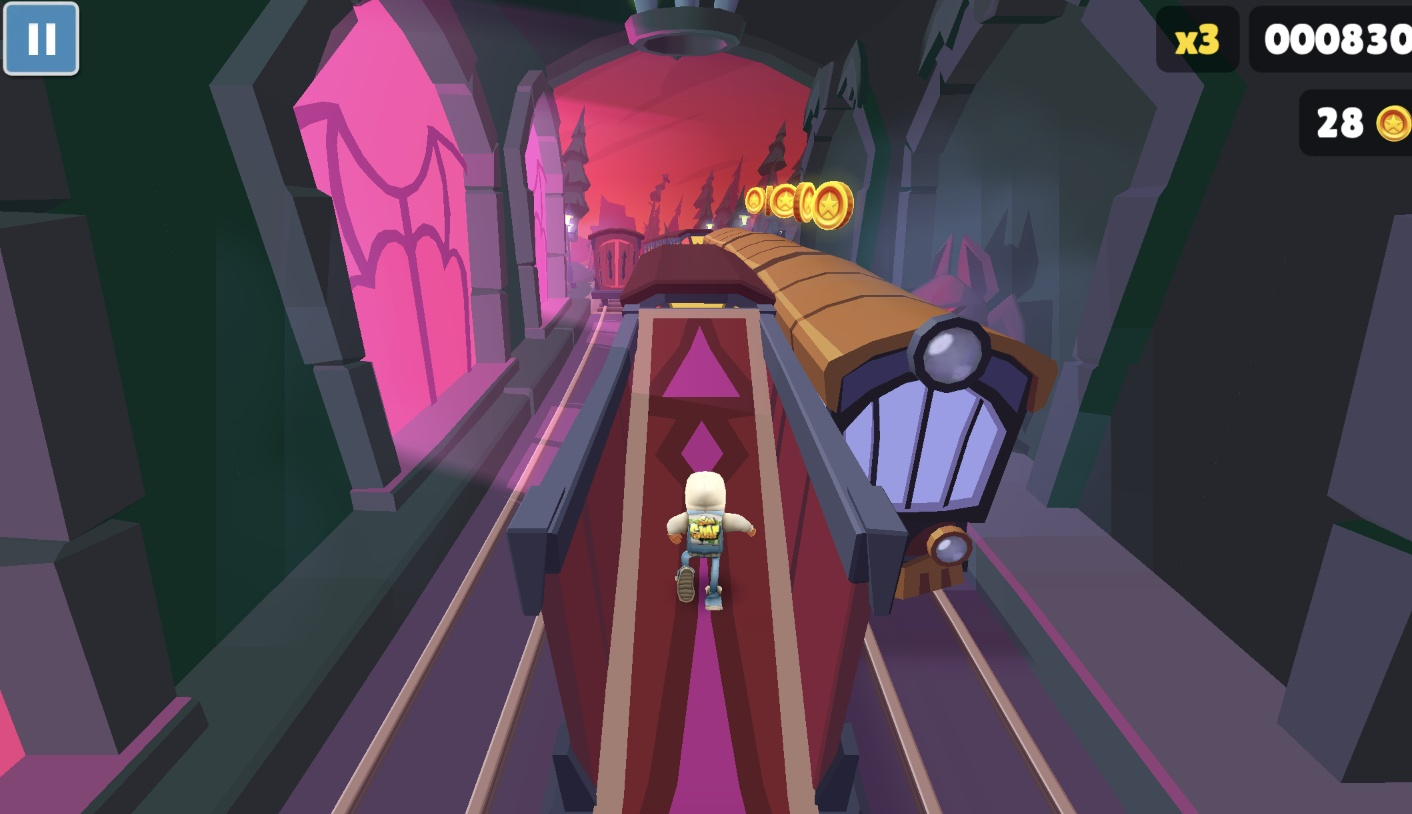train: (500, 234, 903, 814), (705, 231, 1065, 607), (588, 231, 643, 308), (644, 232, 709, 257)
